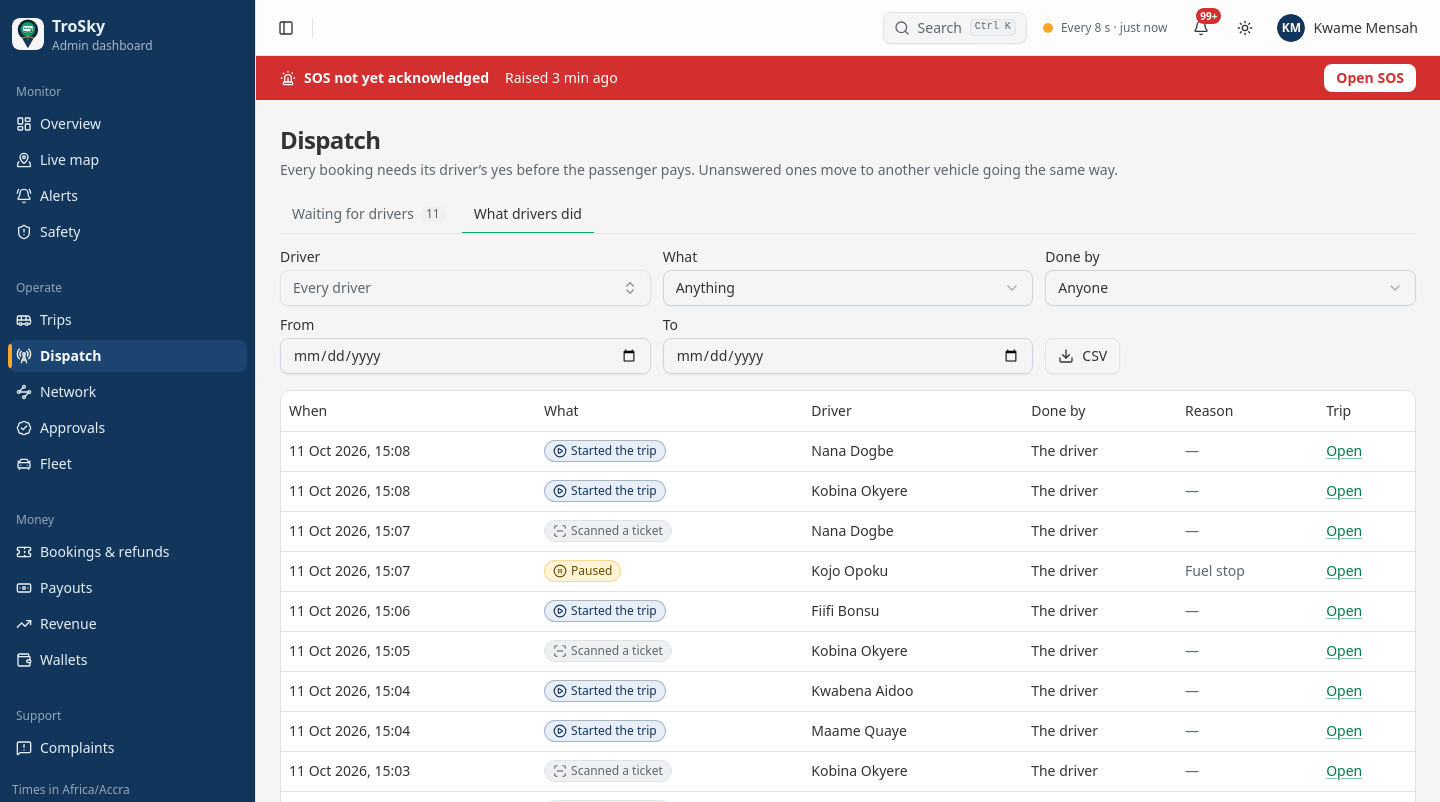
Test: What drivers did › shows who acted for the driver
Click the dropdown named "Done by".
click(1083, 288)  # box [1045,270,1416,306]
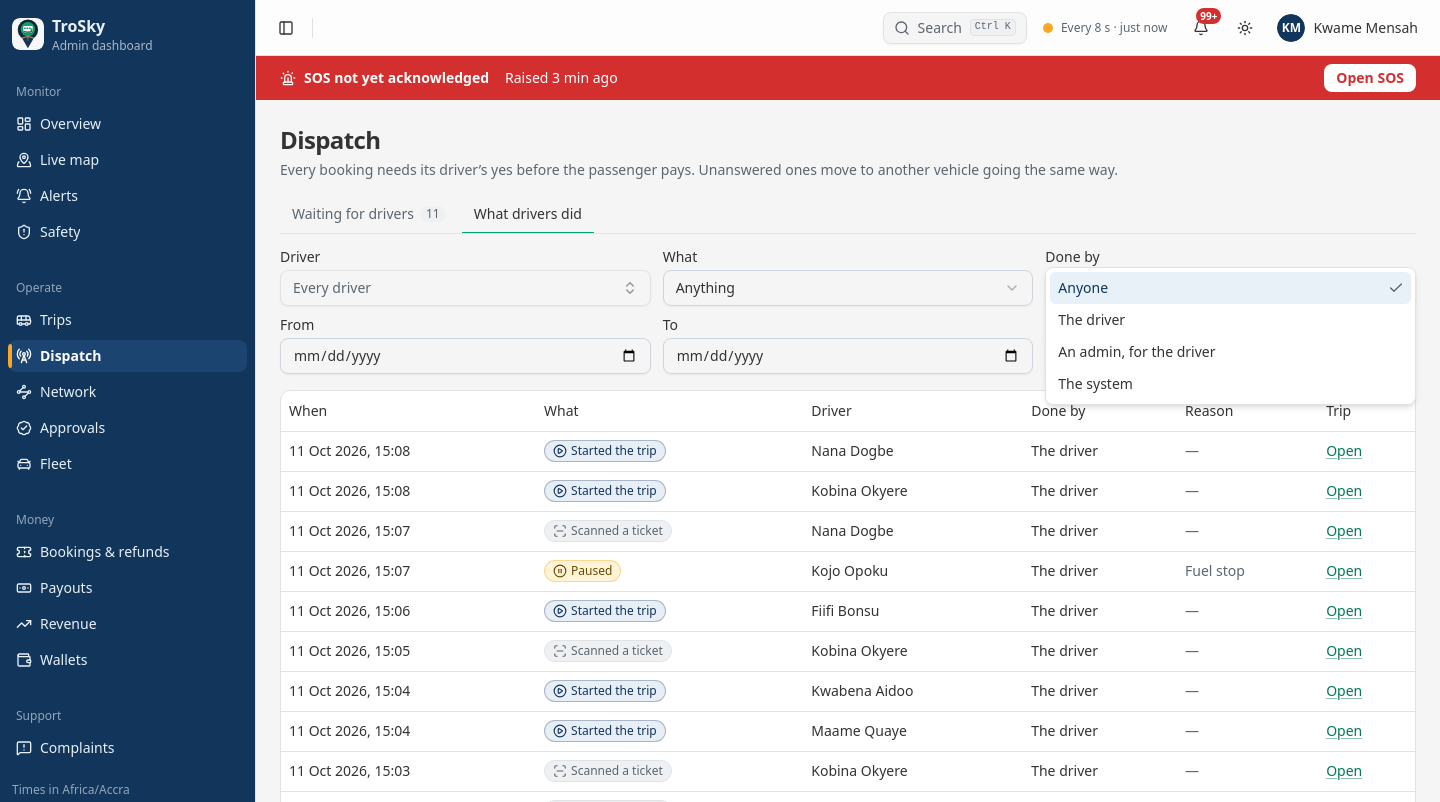
Click the option "The system".
click(1096, 384)  # box [1058,374,1133,393]
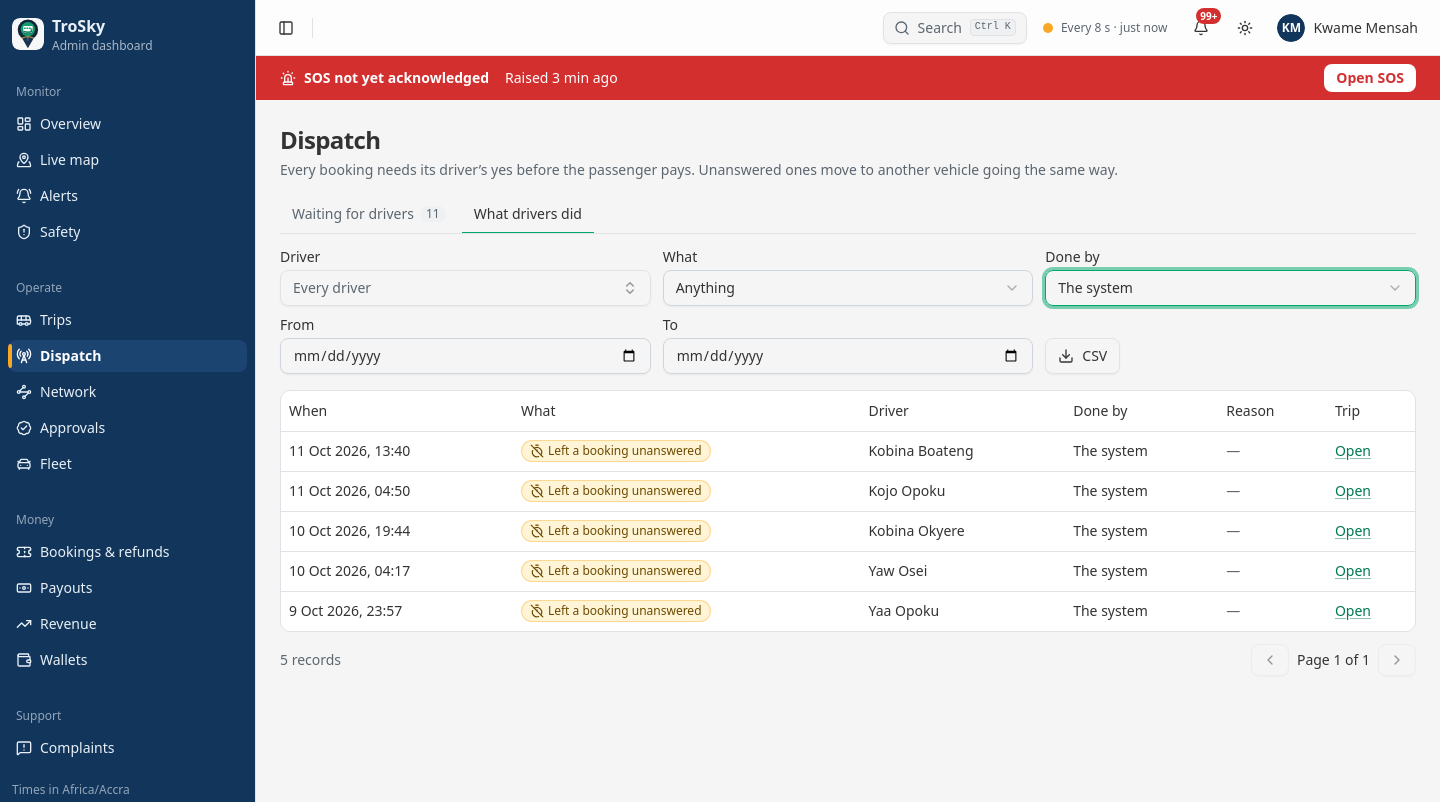
Now the row that starts with "11 Oct 2026, 13:40" shows "The system", box [1073,441,1148,460]
Now the row that starts with "11 Oct 2026, 04:50" shows "The system", box [1073,481,1148,500]
Now the row that starts with "10 Oct 2026, 19:44" shows "The system", box [1073,521,1148,540]
